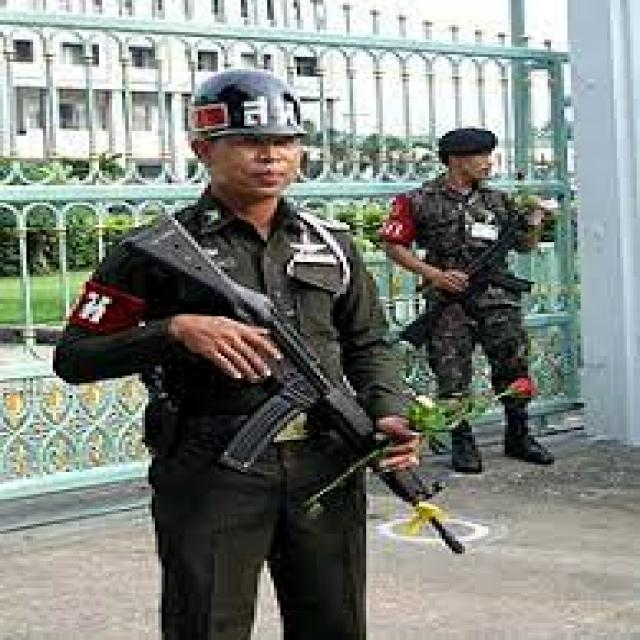m16: (68, 199, 484, 606)
